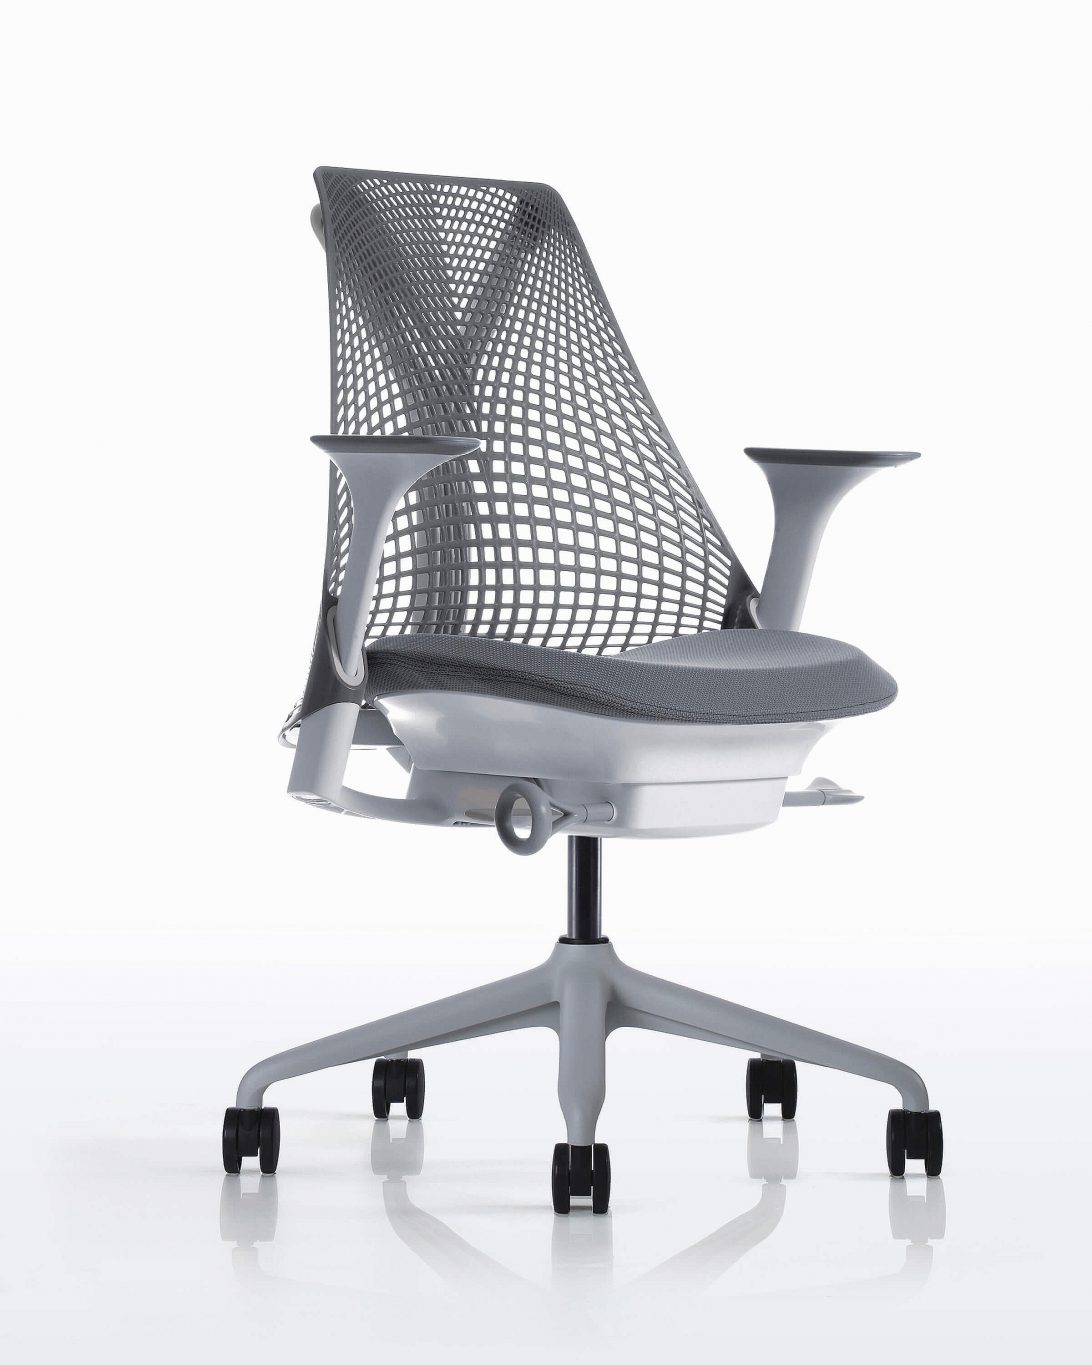chairs: (202, 152, 958, 1220)
